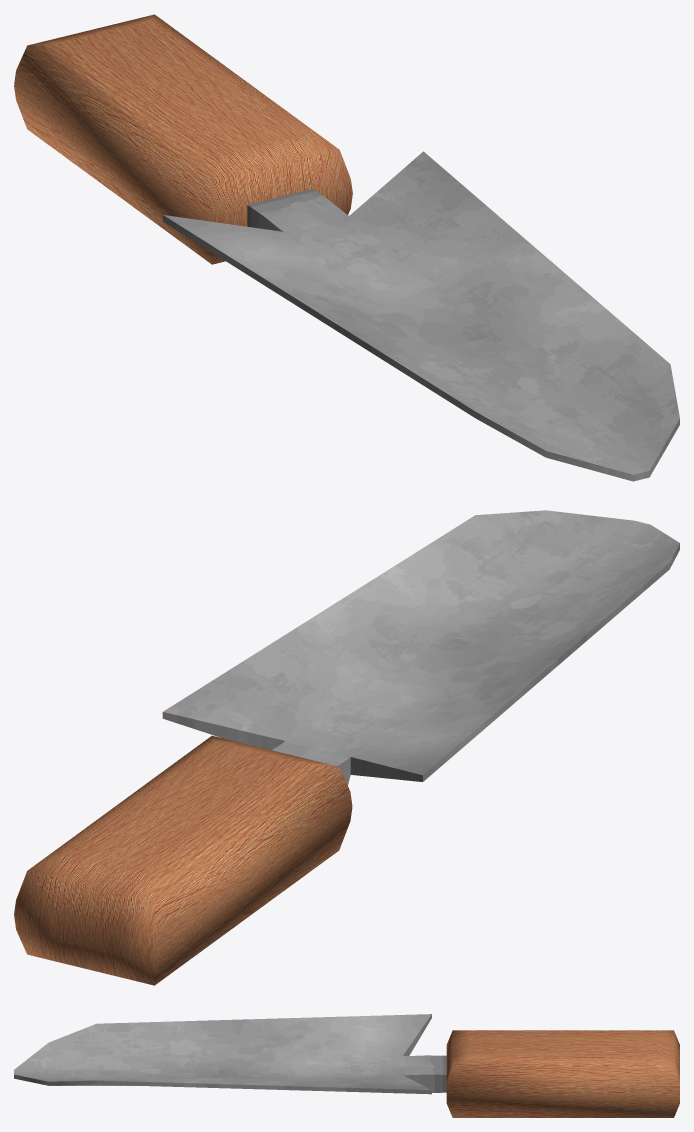
File: HandShovel.FBX
3 renders of one model, top to bottom at view 1: azimuth 30°, elevation 25°; view 2: azimuth 150°, elevation 25°; view 3: azimuth 270°, elevation 25°, orthographic. The views are drawn at different scales.
Visible parts, largest first — view 1: HandShovel; view 2: HandShovel; view 3: HandShovel.
Boxes of the visible parts, bbox=[...] form: HandShovel: bbox=[14, 14, 679, 481]; HandShovel: bbox=[14, 510, 679, 985]; HandShovel: bbox=[14, 1014, 679, 1117].
Size of the model in its own units: 4.01 by 1.5 by 14.84.
